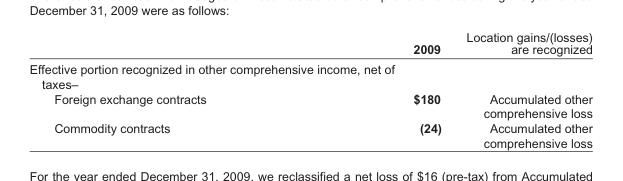table: (28, 29, 591, 149)
table column: (28, 29, 309, 149), (309, 29, 453, 149), (453, 29, 591, 149)
table column header: (28, 29, 591, 58)
table projected row header: (28, 58, 591, 90)
table row: (28, 58, 591, 90), (28, 90, 591, 120), (28, 29, 591, 58), (28, 120, 591, 149)
